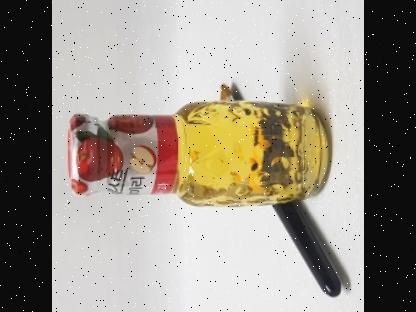Others: (63, 91, 331, 217)
